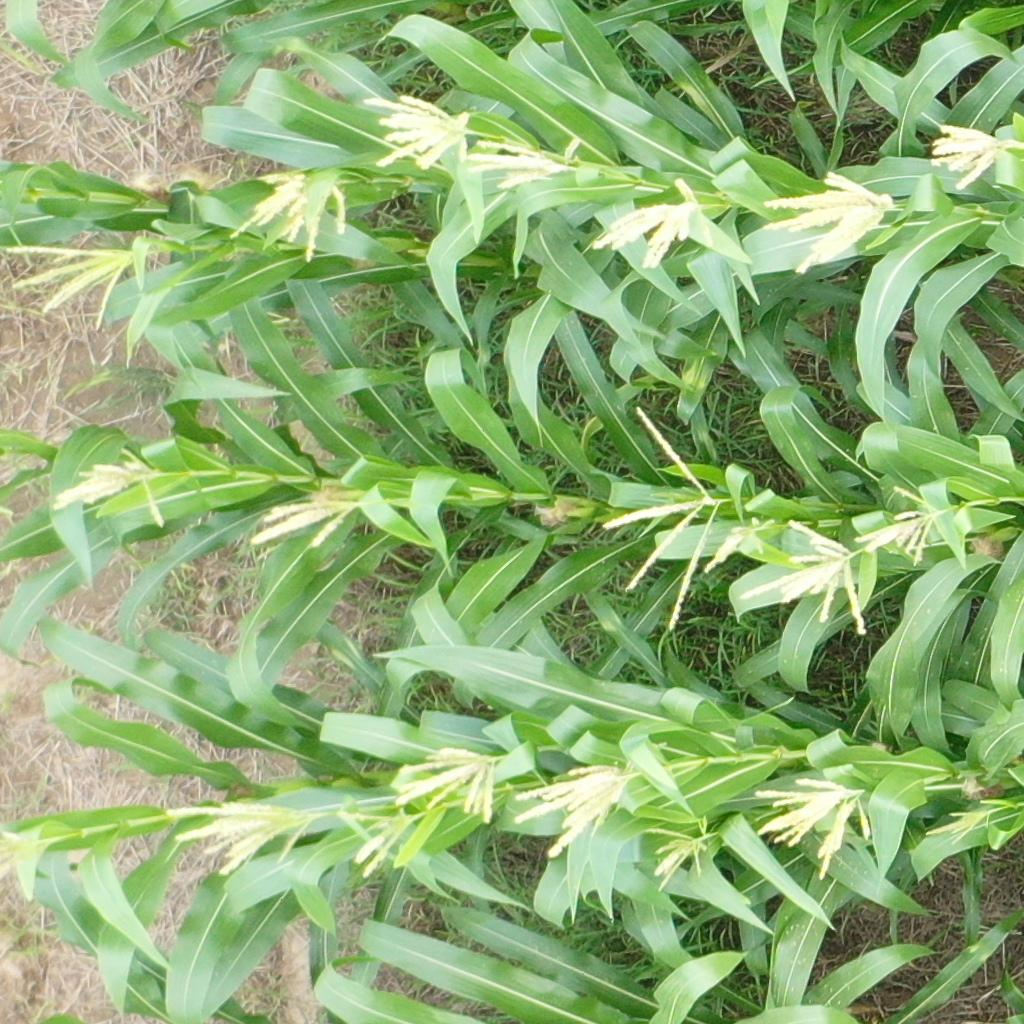Tassel: (598, 404, 728, 634), (735, 519, 872, 638), (761, 171, 904, 278), (750, 769, 876, 884), (5, 234, 144, 333), (164, 795, 324, 878), (512, 761, 639, 863), (226, 168, 349, 267), (52, 449, 172, 531), (361, 90, 474, 173), (393, 747, 507, 827), (591, 198, 705, 276), (855, 486, 949, 566), (924, 121, 1024, 192), (467, 131, 581, 191), (249, 492, 363, 547), (338, 810, 418, 879), (643, 818, 714, 892), (706, 515, 774, 574), (922, 801, 993, 848), (1, 832, 52, 881)
